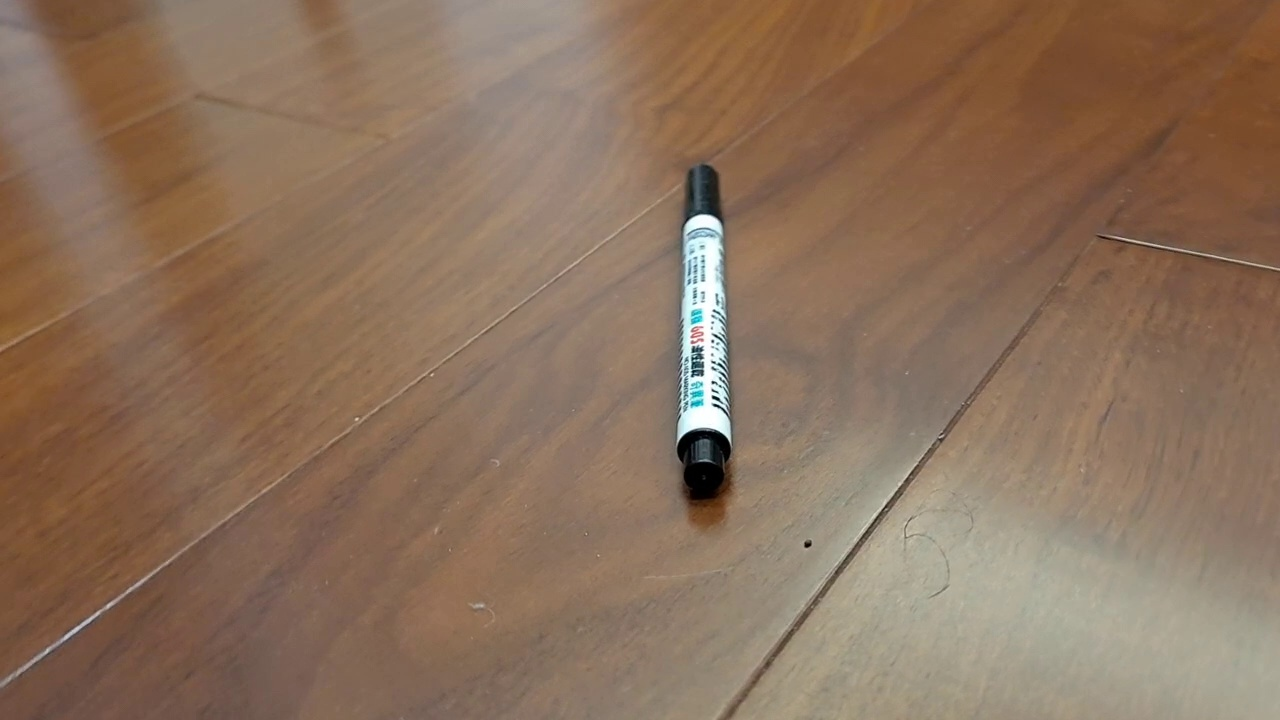pen: (674, 162, 734, 495)
